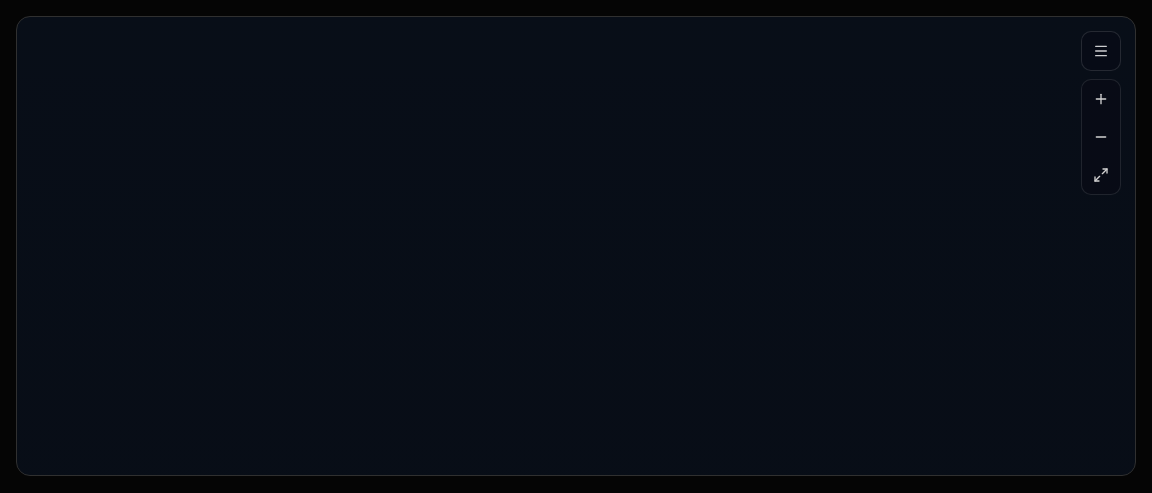
it: WorldHeatmap info panel › still closes from its own close button
Step 1. Click the button named "Map controls" → coordinates (1101, 51), box [1081, 31, 1121, 71]
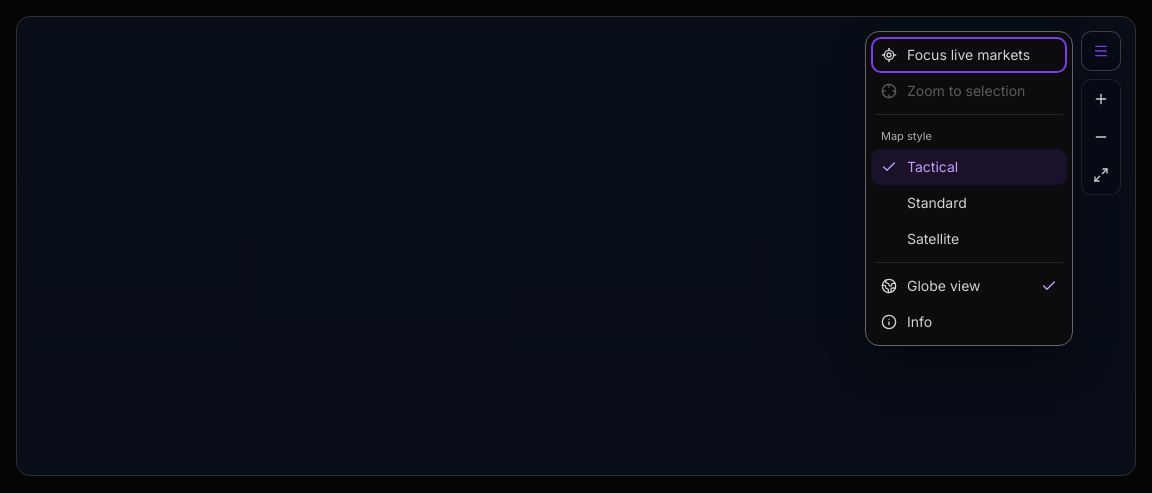
Step 2. Click the button "Info" → coordinates (969, 322), box [871, 304, 1067, 340]
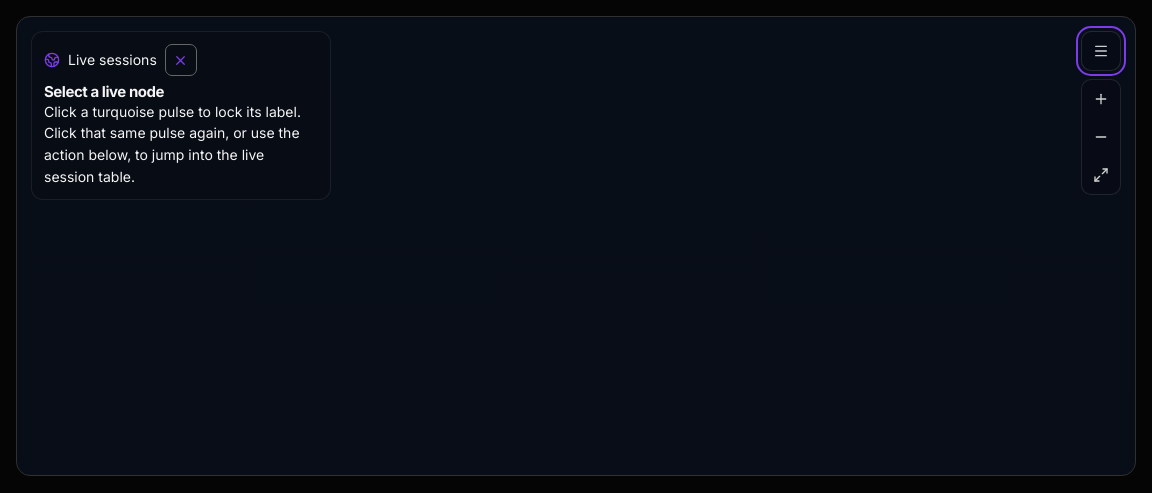
Step 3. Click the button named "Close" → coordinates (181, 60), box [165, 44, 197, 76]
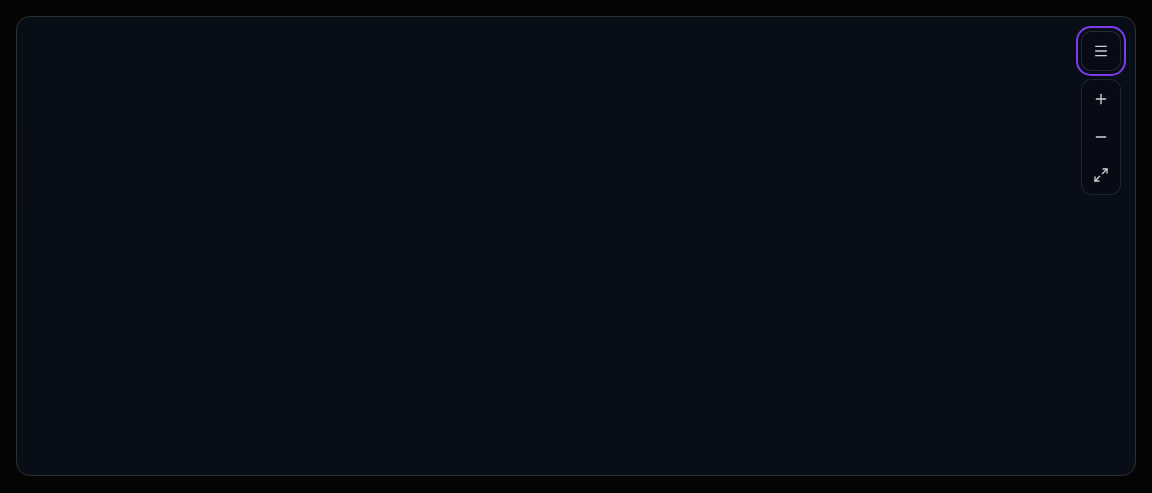
Expected: the element with class "world-heatmap-floating-panel" is gone
